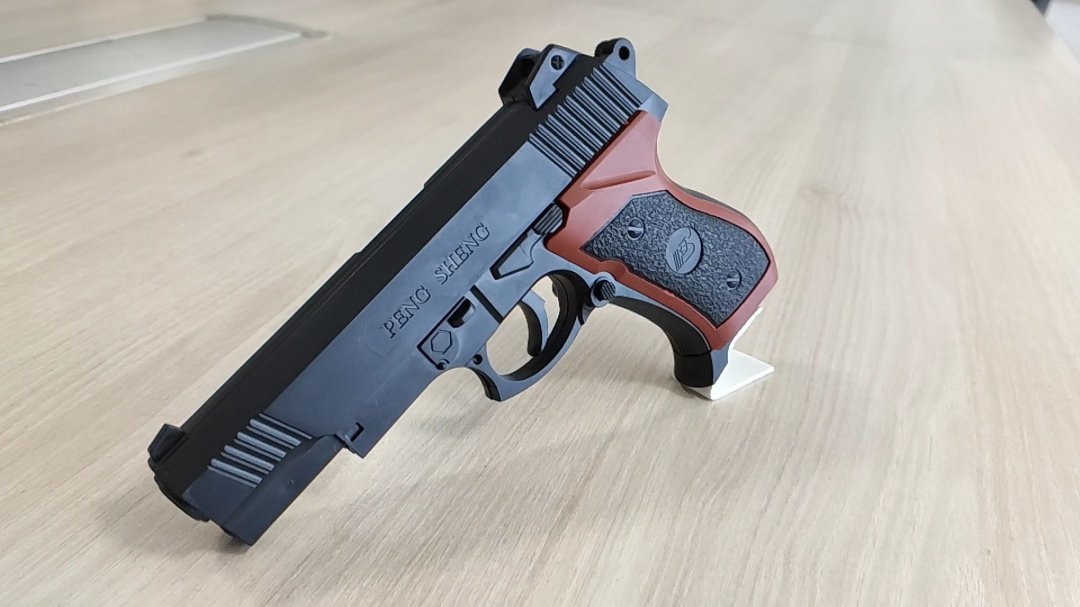gun: (142, 35, 783, 553)
